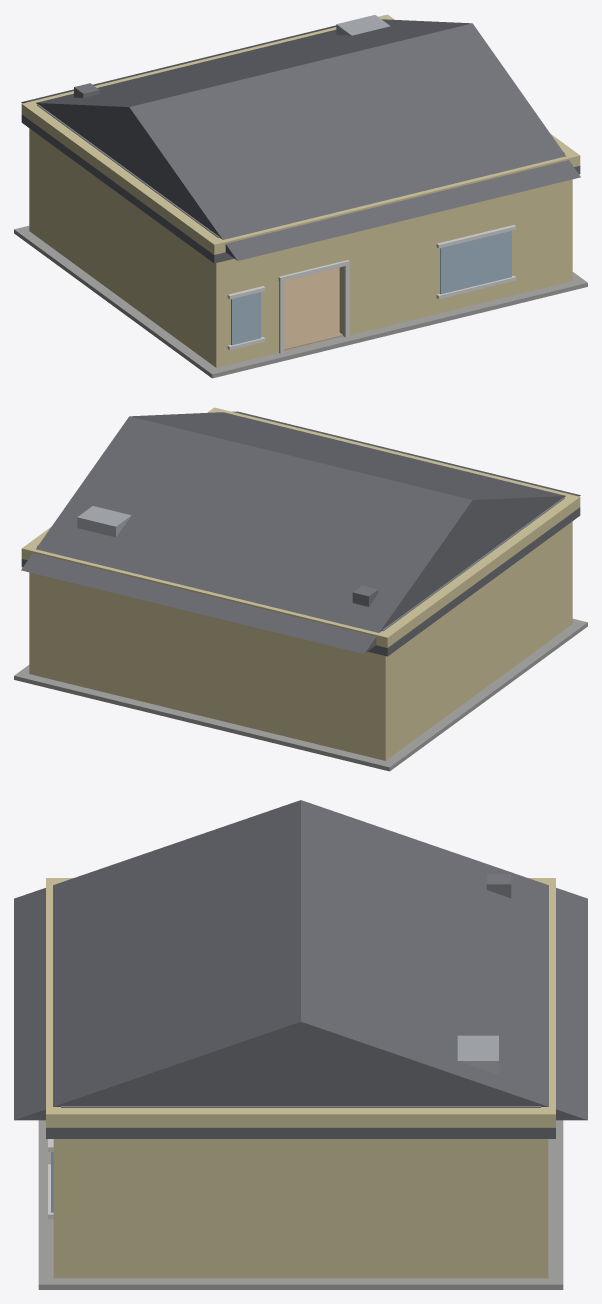
Rendered from Ev_Ic_Sari.glb.
3 views of the same model, one above another, from view 1: azimuth 30°, elevation 25°; view 2: azimuth 150°, elevation 25°; view 3: azimuth 270°, elevation 25° (orthographic). The views are drawn at different scales.
Visible parts, largest first — view 1: Ev_Ic_Sari; view 2: Ev_Ic_Sari; view 3: Ev_Ic_Sari.
Part boxes in pixels (x1,y1,x2,y2): Ev_Ic_Sari: (14,14,587,378); Ev_Ic_Sari: (14,407,587,771); Ev_Ic_Sari: (14,800,587,1289).
Size of the model in its own units: 11.6 by 5.75 by 11.6.
